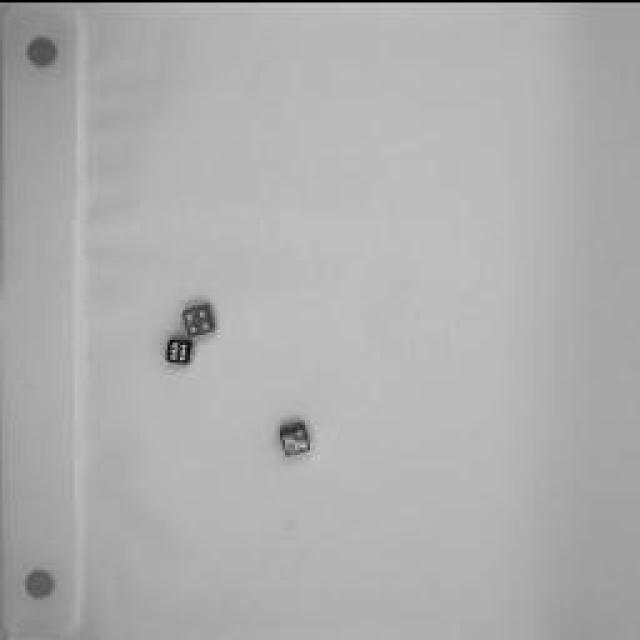dice_2: (272, 412, 322, 460)
dice_4: (179, 298, 221, 340)
dice_6: (164, 331, 198, 369)
